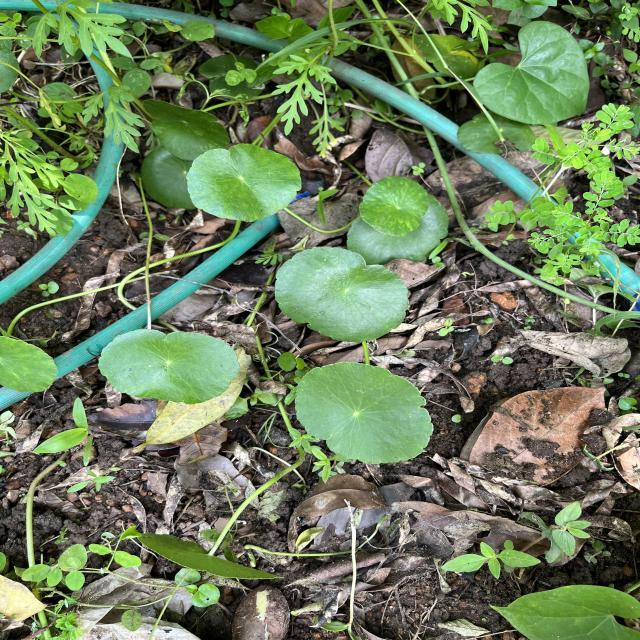Bacopa monnieri: (292, 359, 436, 466), (274, 244, 412, 344), (96, 326, 243, 408), (184, 140, 303, 224), (356, 174, 432, 238)
